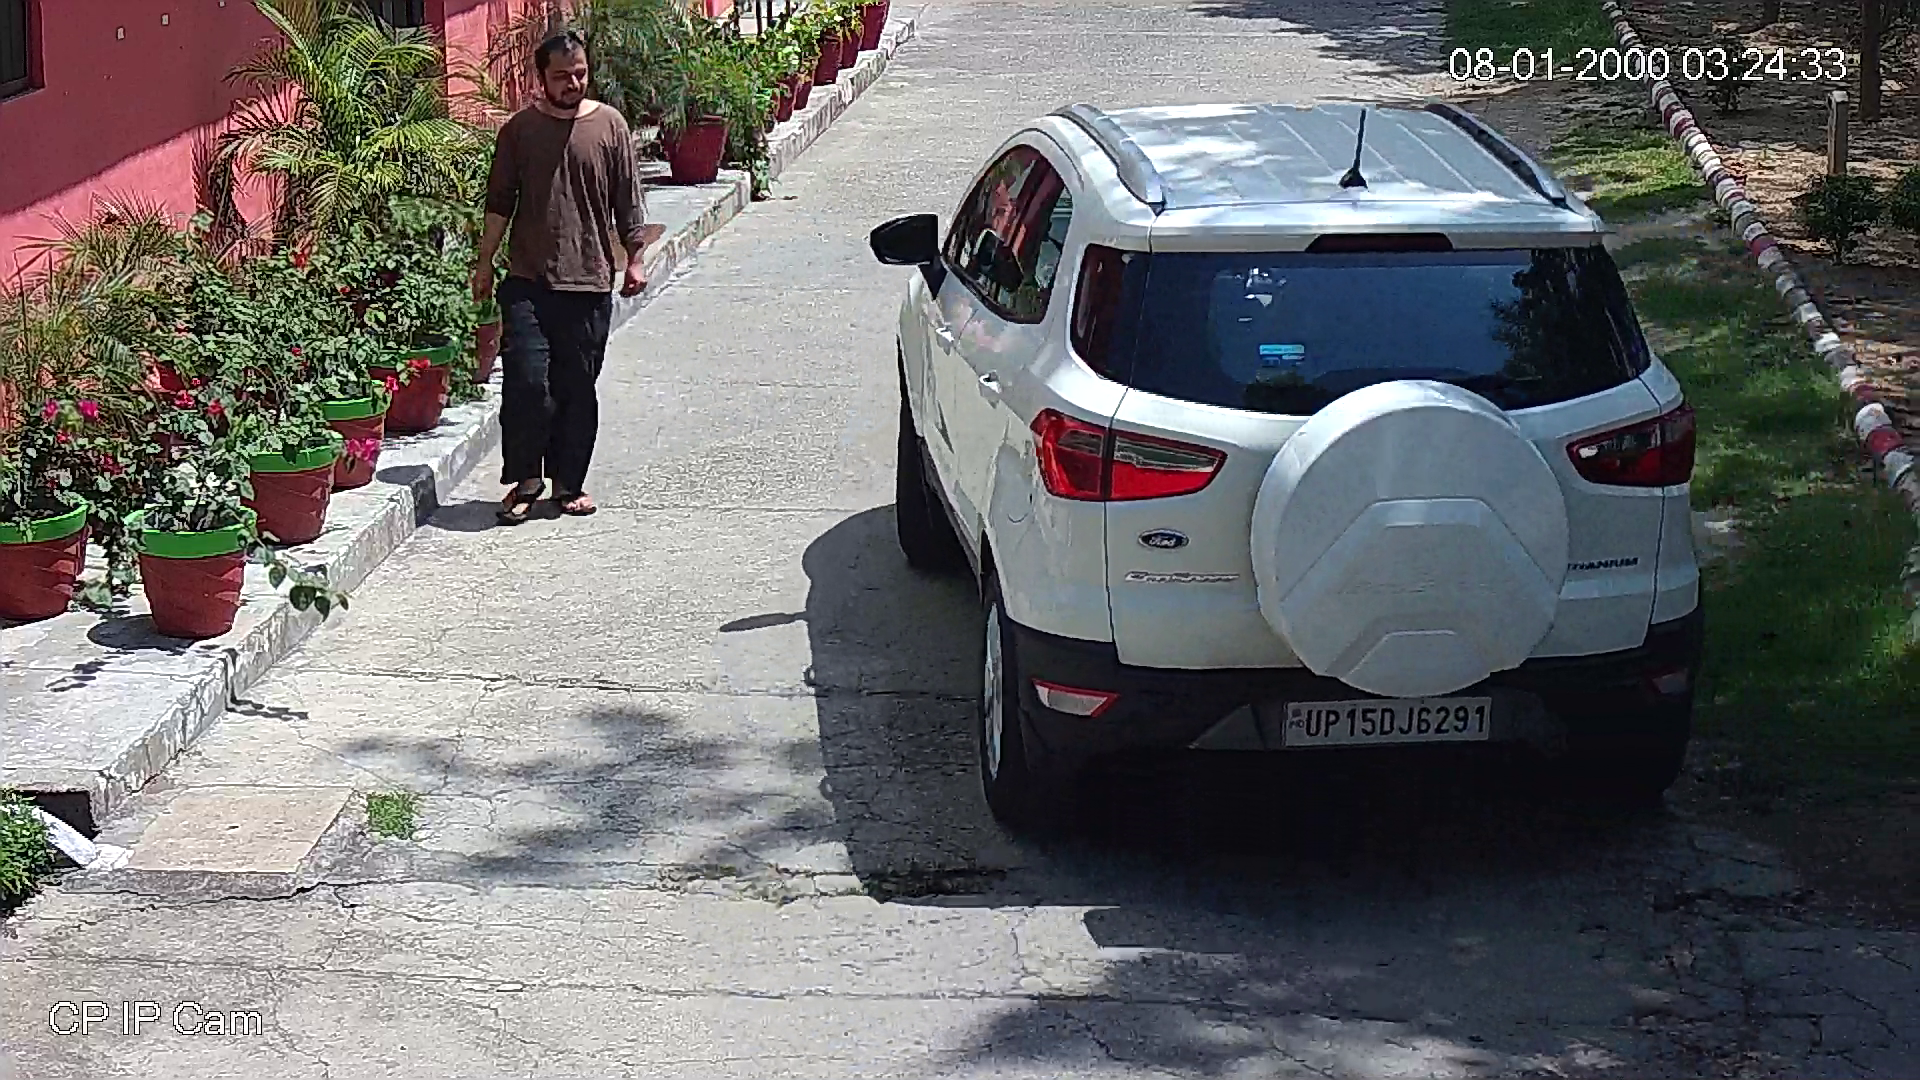plate: (1276, 691, 1493, 754)
